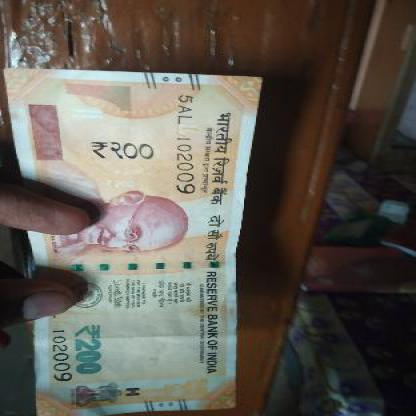New200Front: (4, 71, 247, 415)
